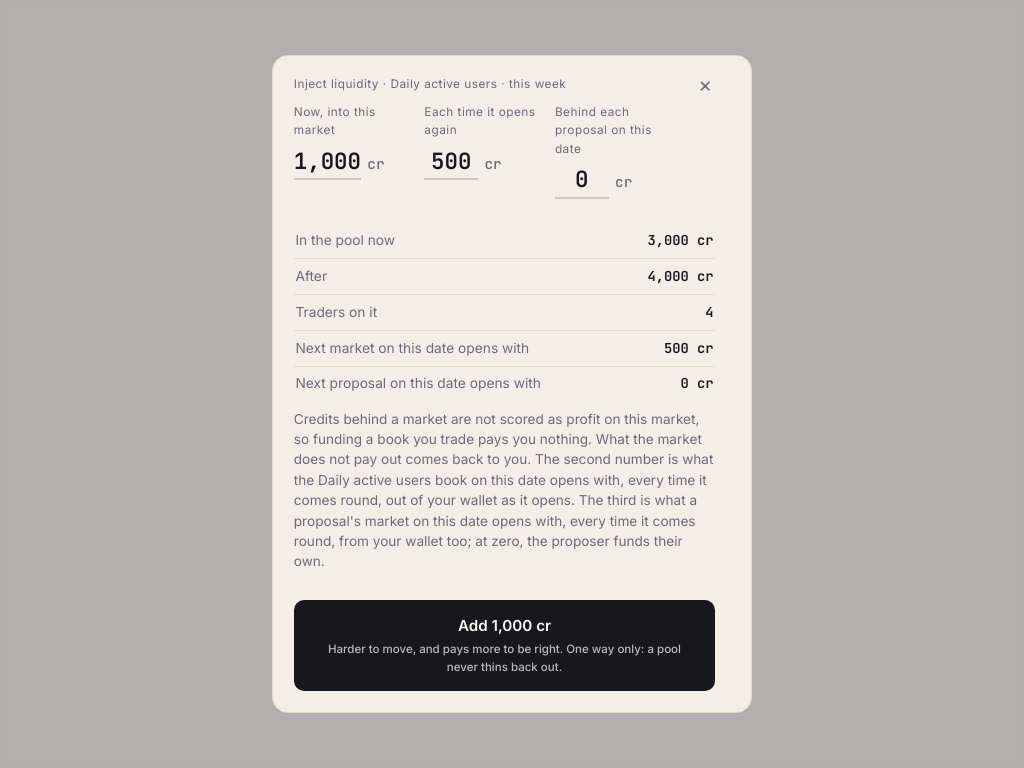
dialog 3: three numbers for a manager on a baseline market with a date row › the facts rows say what the next book and the next proposal on this date open with, and what they were
The image size is (1024, 768).
Expected: the field named "Credits the book on this date opens with" holds "500", [424,144,478,180]
Expected: the text "Next market on this date opens with" is shown, [295,338,529,359]
Step 1. Type "250" into the field named "Credits behind each proposal on this date" → (582, 181), box [555,163,609,199]
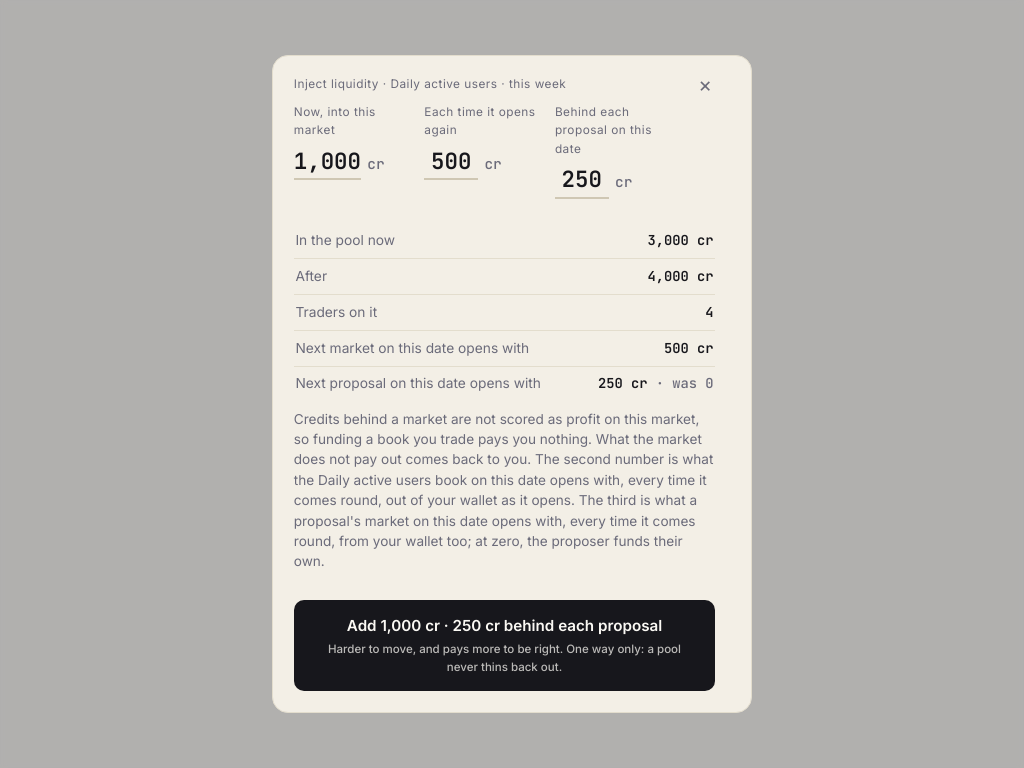
Expected: the text "· was 0" is shown, [648,374,714,392]
Expected: the button "Add 1,000 cr · 250 cr behind each proposal" is shown, [294,600,715,691]
